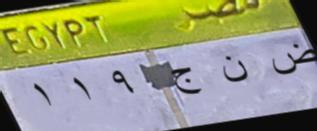1: (29, 79, 56, 117), (70, 73, 95, 113)
9: (110, 65, 138, 103)
daad: (264, 43, 315, 85)
jeem: (163, 60, 204, 104)
noon: (215, 53, 251, 93)
